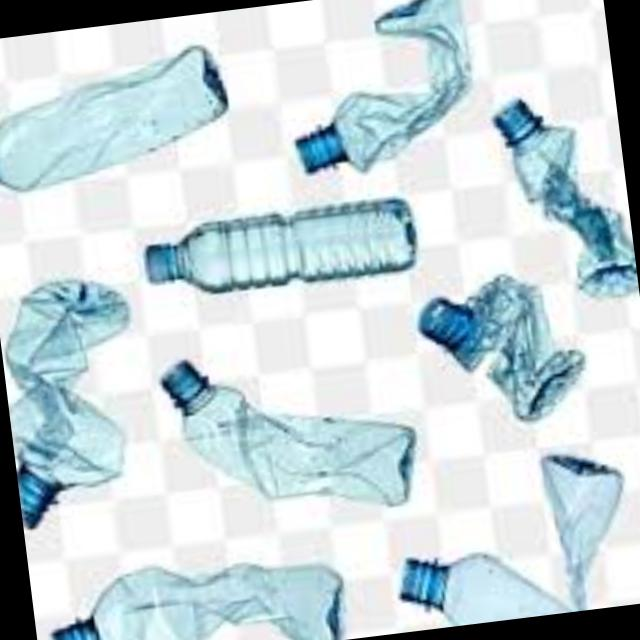plastic: (398, 460, 617, 627), (158, 365, 408, 509), (0, 52, 222, 194), (292, 0, 463, 175), (6, 283, 126, 525), (493, 102, 638, 297), (143, 204, 410, 296), (414, 280, 578, 424), (52, 570, 337, 640)
